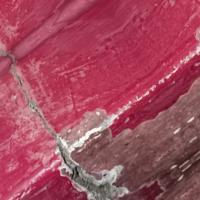crack: (11, 49, 126, 198)
